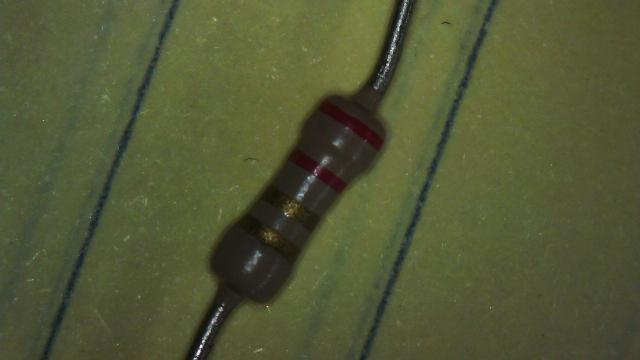gold: (238, 216, 299, 260), (261, 187, 316, 224)
red: (318, 101, 382, 150), (288, 148, 346, 193)
resistor: (163, 64, 421, 331)
